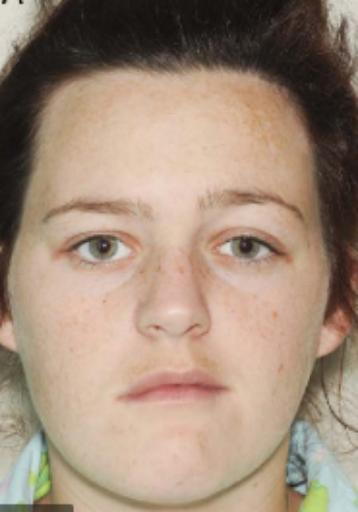left_eye: (209, 236, 287, 267)
left_lip_corner: (216, 377, 241, 400)
right_eye: (59, 234, 139, 268)
right_lip_corner: (116, 385, 143, 410)
